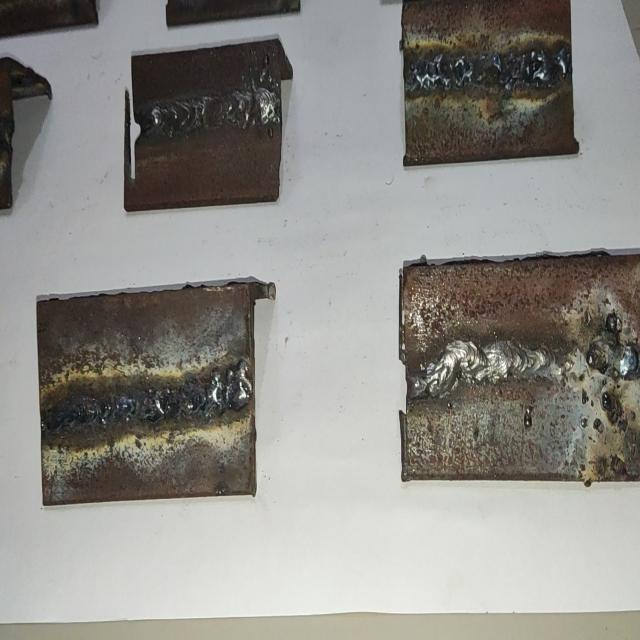Defect: (50, 383, 198, 438), (581, 306, 640, 436), (408, 49, 570, 91), (201, 358, 253, 420)
Welding Line: (406, 339, 552, 405), (140, 84, 280, 140)
Workpiece: (402, 256, 640, 488), (34, 282, 255, 510), (122, 42, 282, 212), (404, 3, 574, 156)
